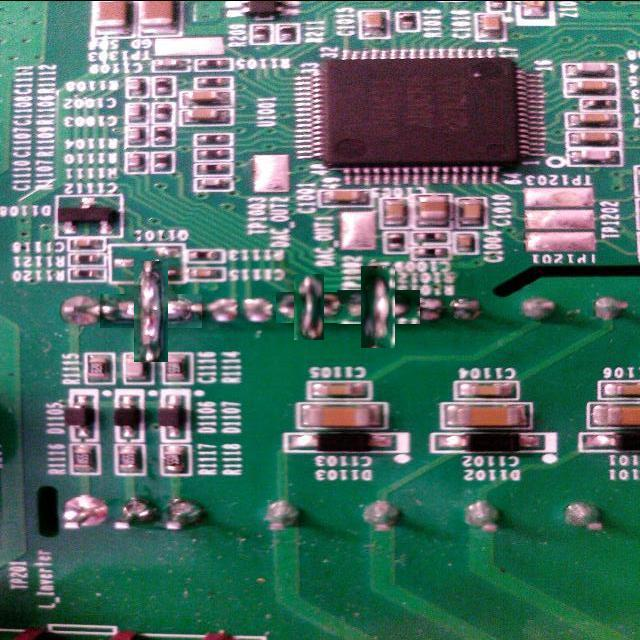Short_circuit: (118, 277, 186, 345), (349, 278, 408, 336), (285, 283, 333, 332)
